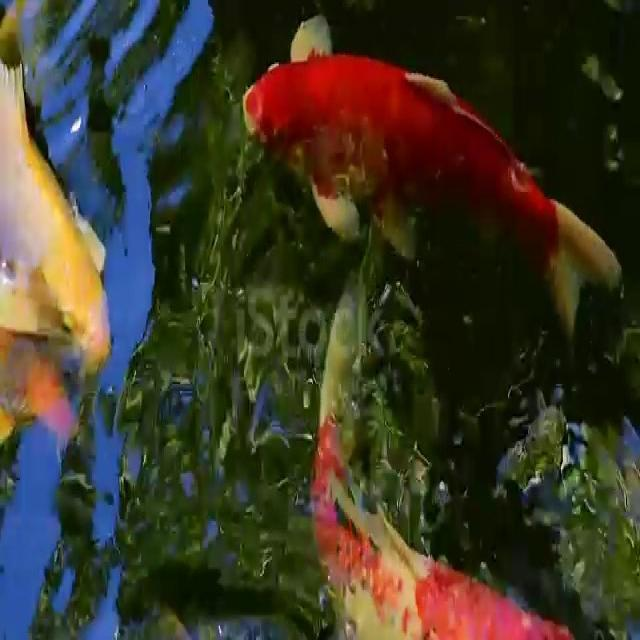fish: (245, 24, 618, 350), (303, 403, 574, 640), (0, 53, 170, 364)
